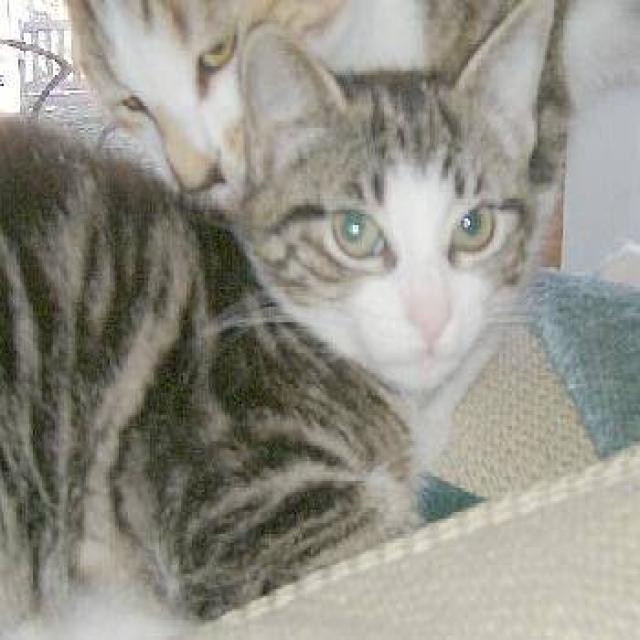cat: (0, 0, 572, 633)
